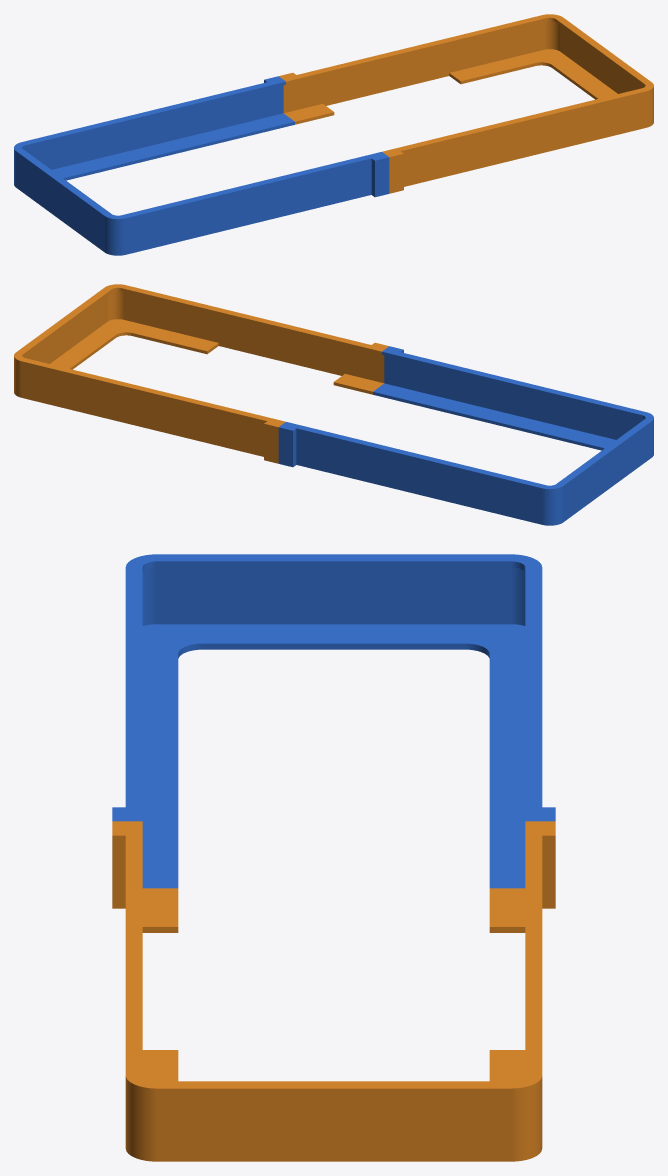
Rendered from coque_xeneon.glb.
3 views of the same model, one above another, from view 1: azimuth 30°, elevation 25°; view 2: azimuth 150°, elevation 25°; view 3: azimuth 270°, elevation 25° (orthographic). The views are drawn at different scales.
Parts seen in each view (by area): view 1: coque_gauche, coque_droite; view 2: coque_gauche, coque_droite; view 3: coque_gauche, coque_droite.
Boxes of the visible parts, left/top/right/bottom form: coque_gauche: left=14, top=76, right=389, bottom=255; coque_droite: left=279, top=14, right=653, bottom=193; coque_gauche: left=278, top=346, right=653, bottom=525; coque_droite: left=14, top=284, right=388, bottom=463; coque_gauche: left=112, top=554, right=555, bottom=888; coque_droite: left=112, top=821, right=555, bottom=1161.
Size of the model in its own units: 0.3767 by 0.024 by 0.1321.
